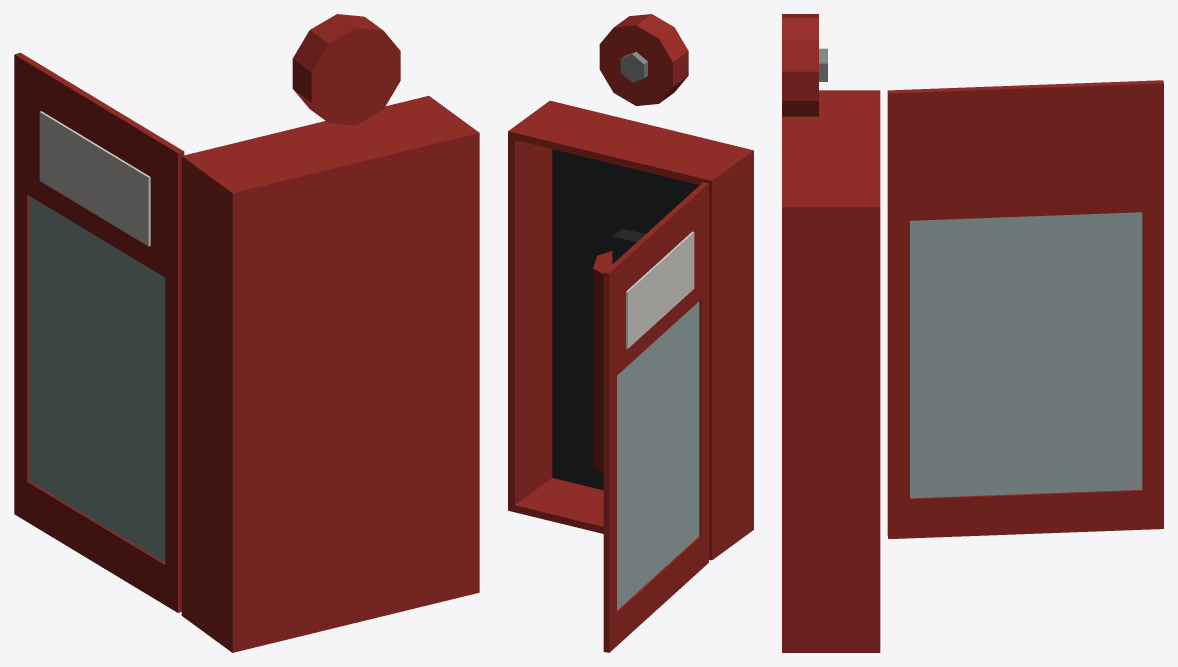
The model's file is fire_cabinet.fbx.
3 renders of one model, left to right at view 1: azimuth 30°, elevation 25°; view 2: azimuth 150°, elevation 25°; view 3: azimuth 270°, elevation 25°, orthographic. The views are drawn at different scales.
Visible parts, largest first — view 1: fire_cabinet, fire_cabinet_door; view 2: fire_cabinet, fire_cabinet_door; view 3: fire_cabinet_door, fire_cabinet.
Part boxes in pixels (x1,y1,x2,y2): fire_cabinet: [181, 14, 479, 652]; fire_cabinet_door: [14, 52, 184, 612]; fire_cabinet: [508, 14, 753, 560]; fire_cabinet_door: [603, 182, 708, 652]; fire_cabinet_door: [887, 80, 1163, 539]; fire_cabinet: [782, 14, 880, 652].
Bounding box in the file's own units: 0.4892 × 1.04 × 0.6213.
